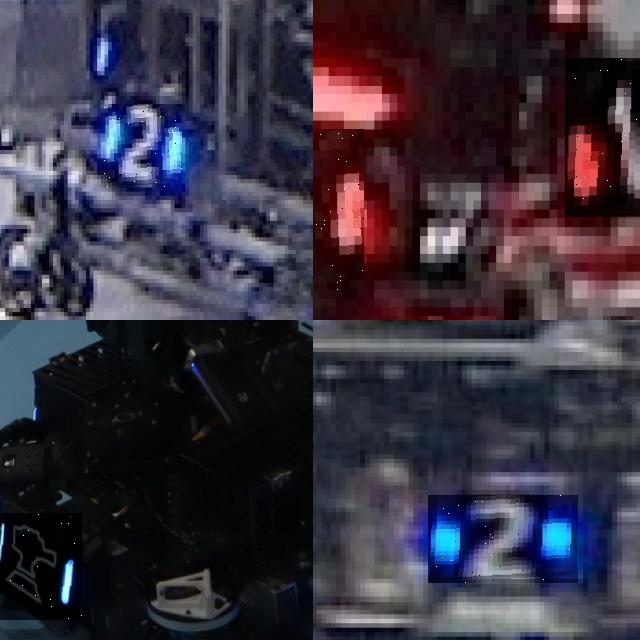B2: (428, 495, 578, 583), (101, 104, 182, 188)
Bs: (0, 513, 81, 621)
R1: (565, 58, 640, 218), (313, 129, 366, 298)
